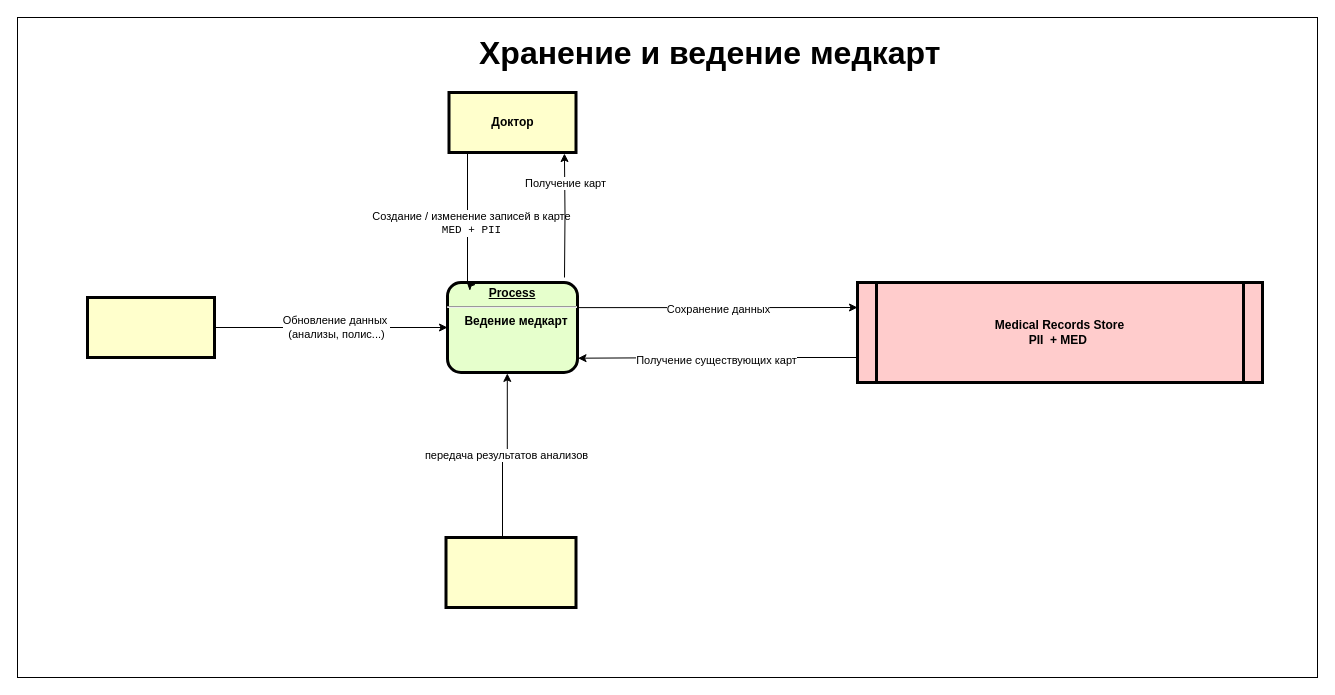
This 1335x695 diagram has some shape labels left out. The centre of each missing label's shape, as x and y in pixels:
Администратор: (151,327)
Лаборатория: (510,572)
